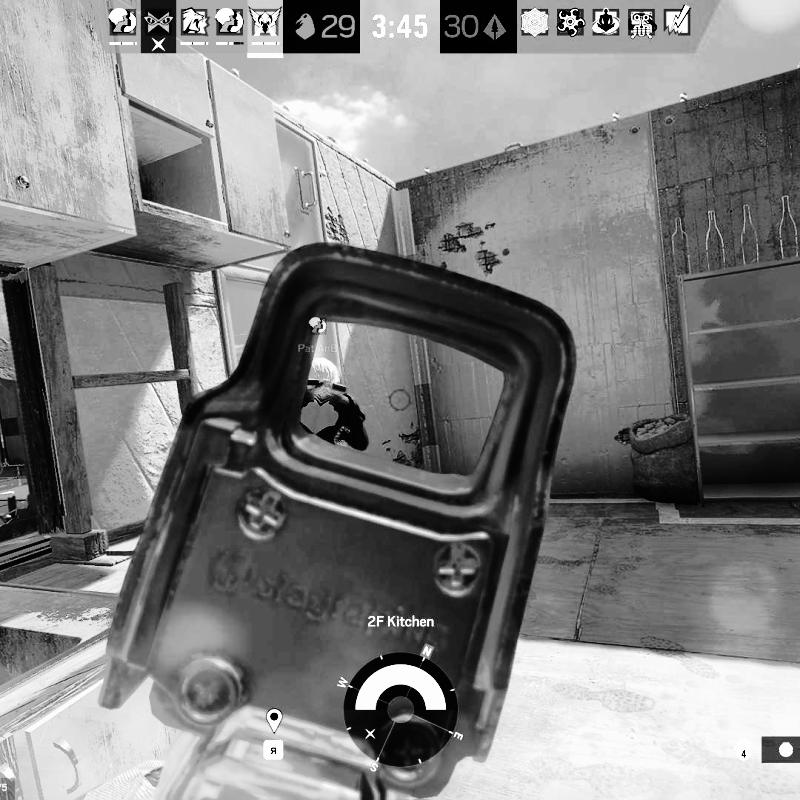Character: (299, 357, 370, 459)
Friend_label: (296, 315, 346, 356)
Head: (310, 357, 340, 389)
